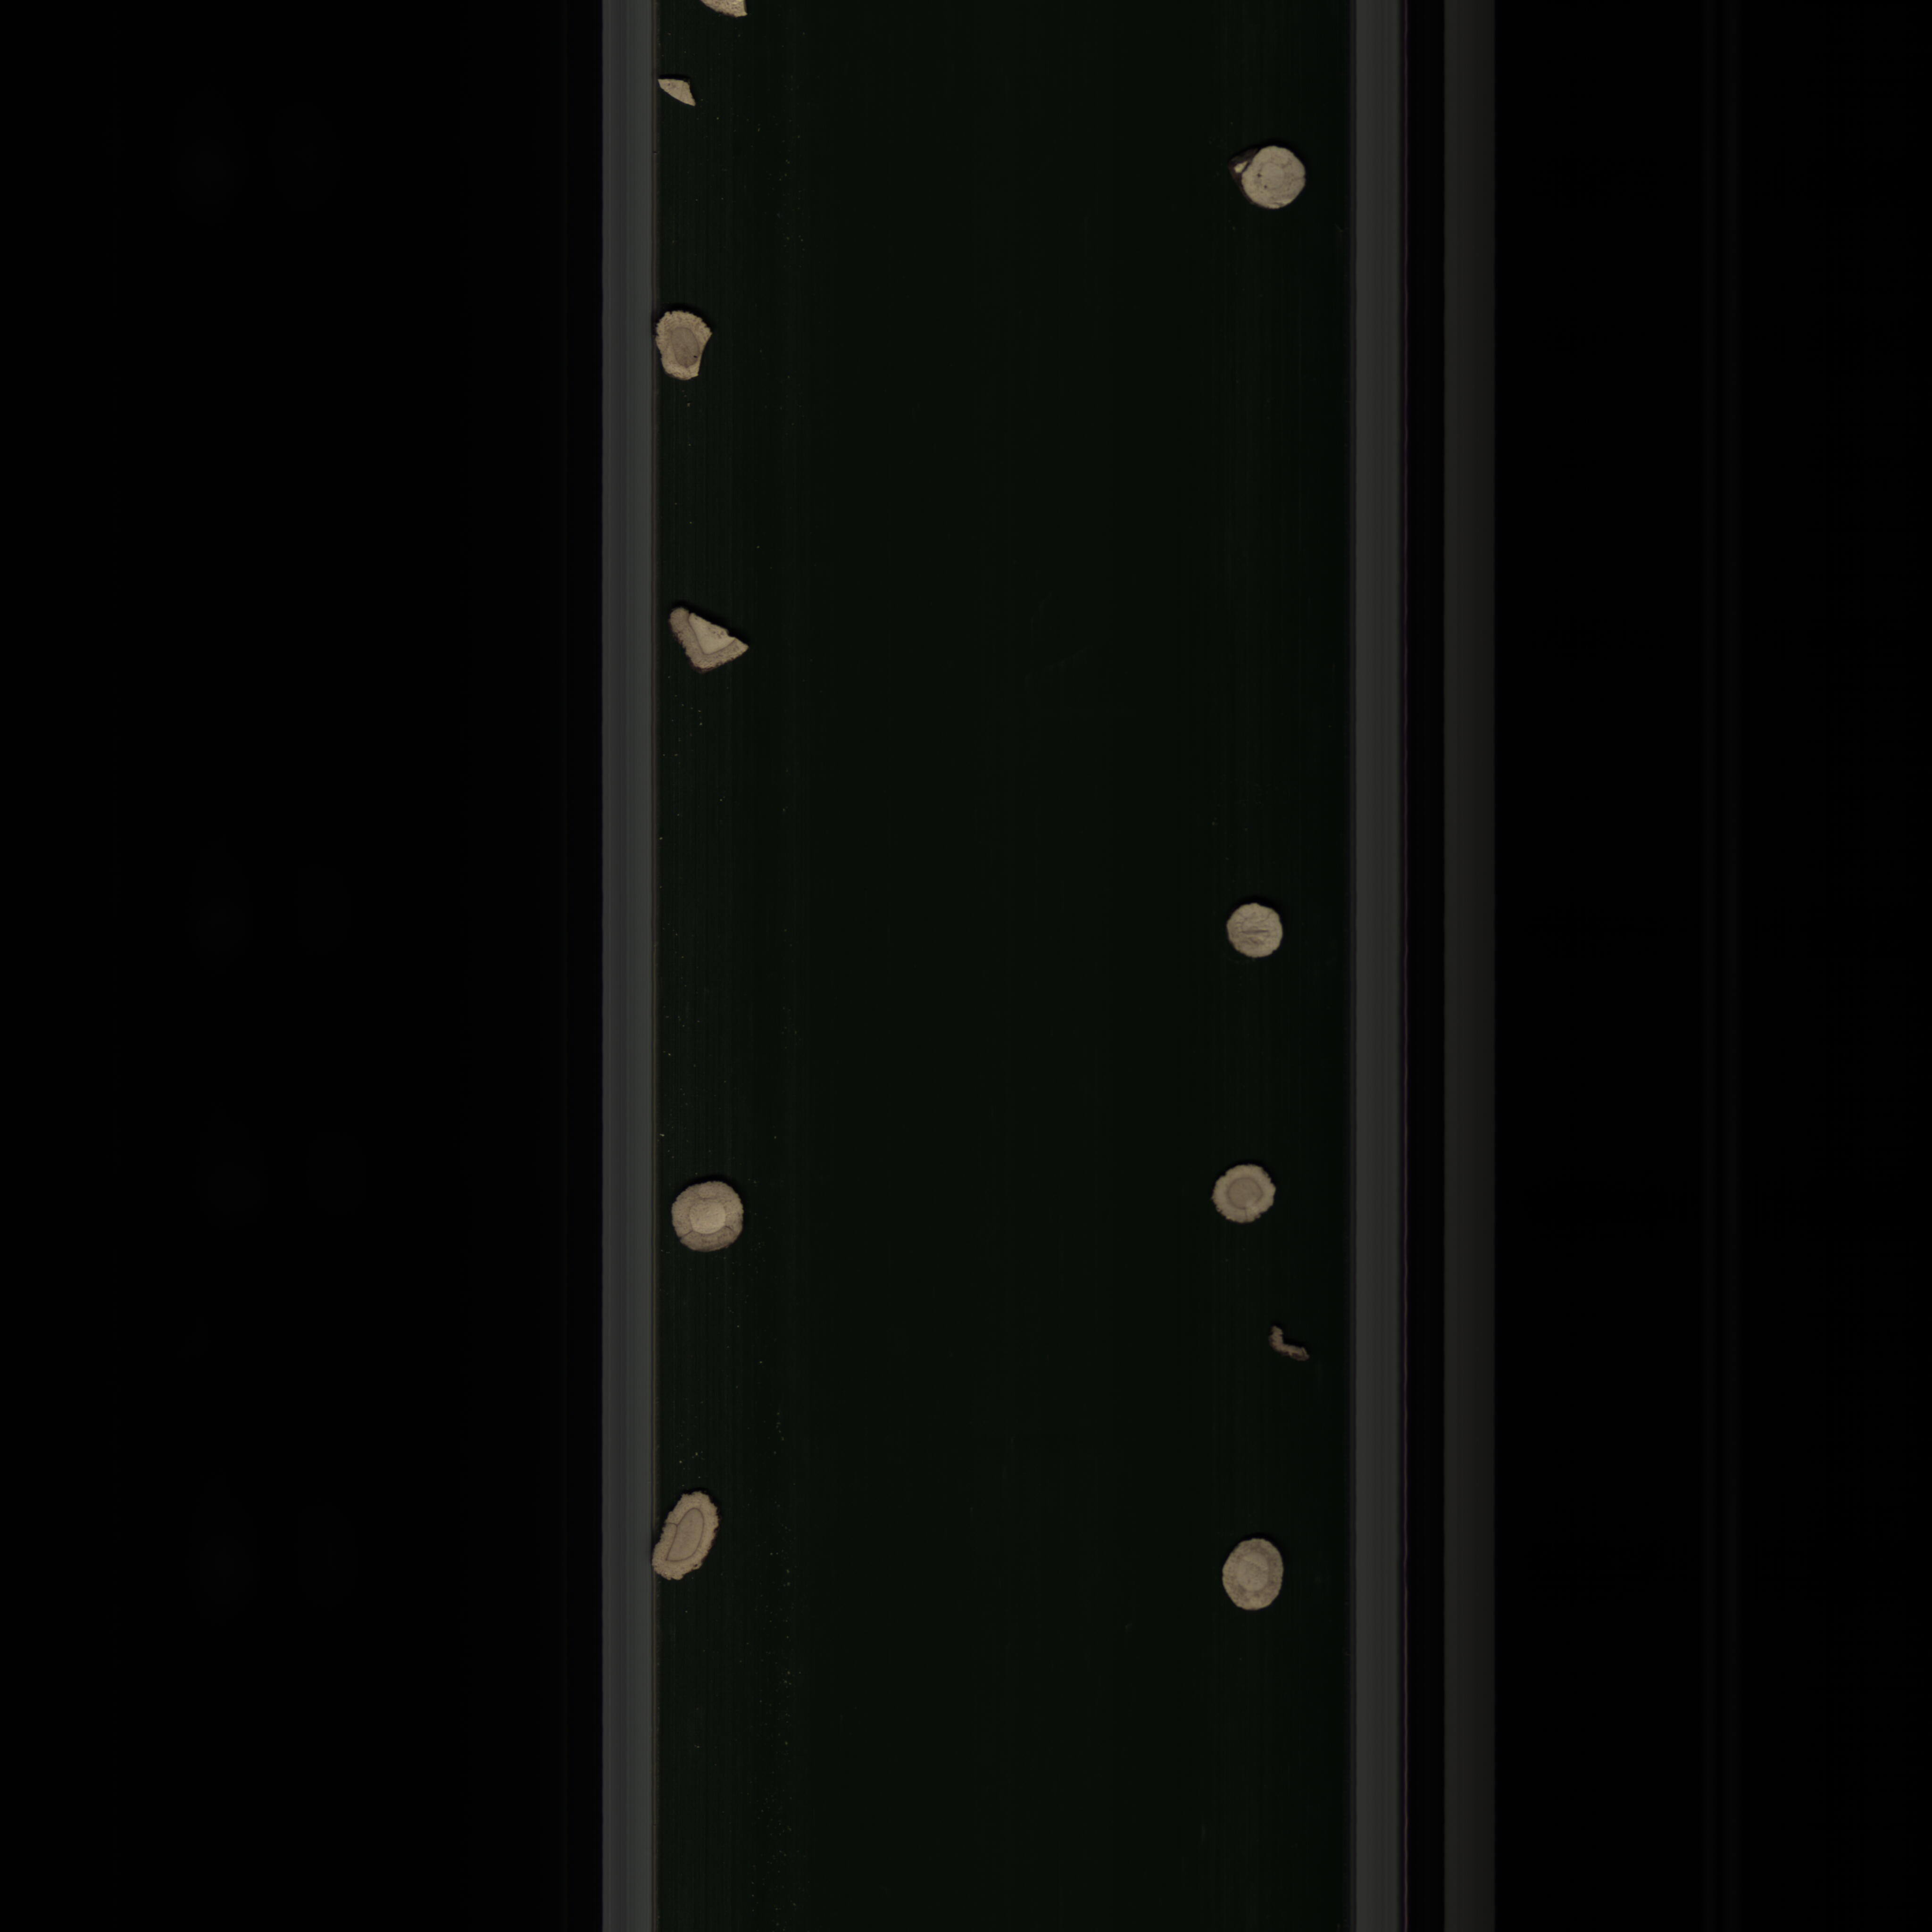bark: (1251, 1315, 1318, 1378)
debris: (653, 598, 763, 688), (648, 299, 718, 384)
moldy: (648, 1481, 725, 1599), (1207, 1154, 1284, 1230)
